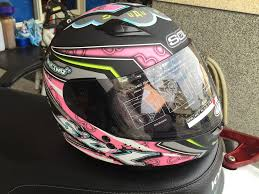helmet: (44, 9, 220, 163)
